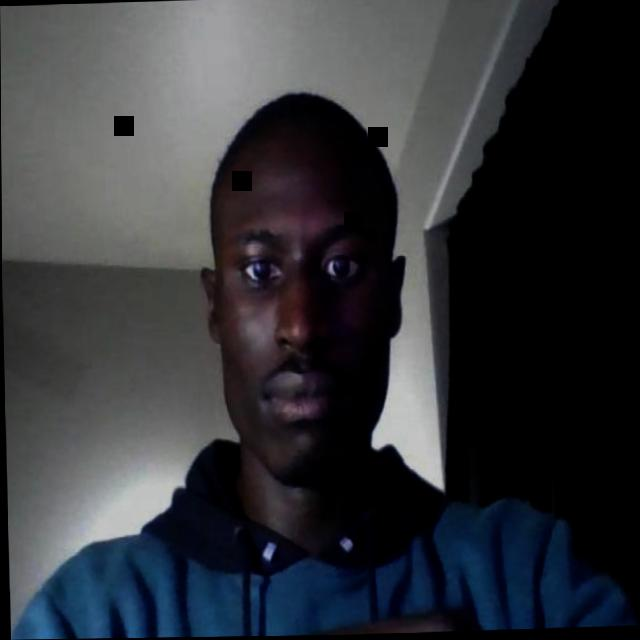NO-Mask: (216, 168, 396, 490)
